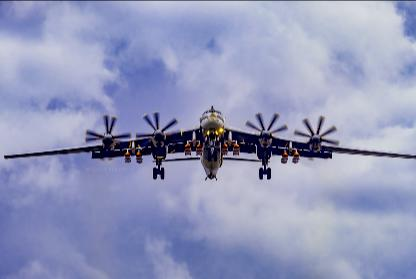Su57: (3, 104, 415, 179)
